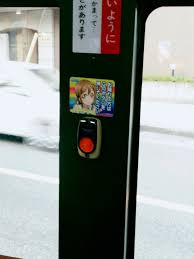bell: (76, 118, 103, 161)
